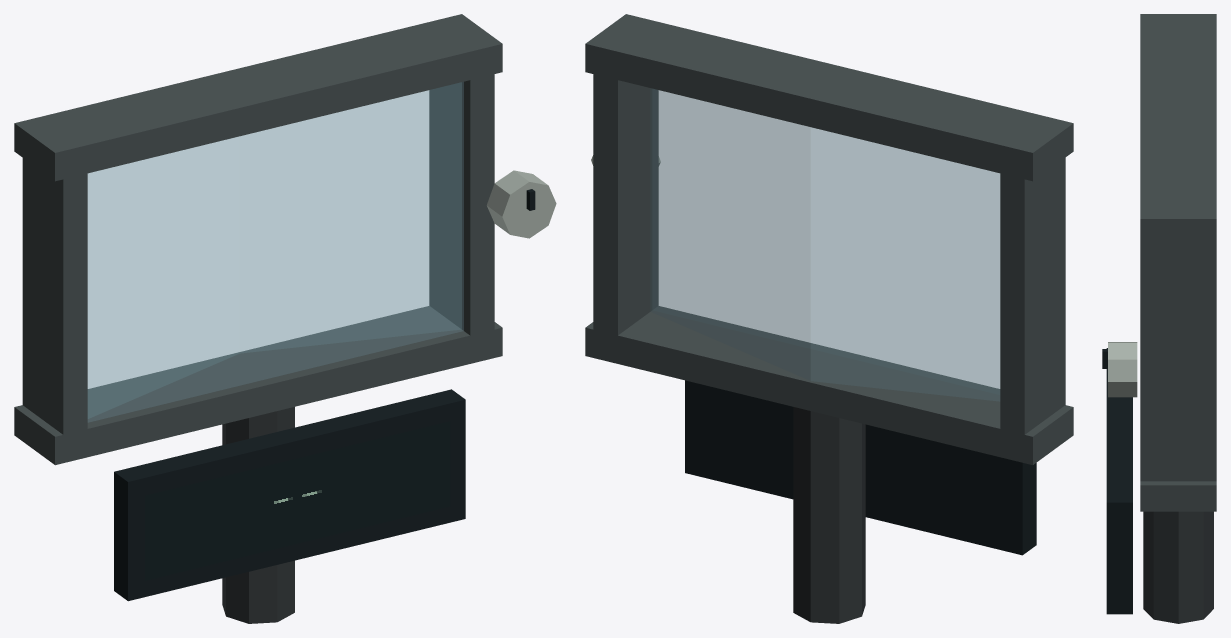
Rendered from blender_spectral_prism_3.glb.
3 renders of one model, left to right at view 1: azimuth 30°, elevation 25°; view 2: azimuth 150°, elevation 25°; view 3: azimuth 270°, elevation 25°, orthographic. The views are drawn at different scales.
Visible parts, largest first — view 1: blender_spectral_prism_3; view 2: blender_spectral_prism_3; view 3: blender_spectral_prism_3.
Boxes of the visible parts, x1,y1,x2,y2 form: blender_spectral_prism_3: [14, 14, 556, 623]; blender_spectral_prism_3: [585, 14, 1073, 623]; blender_spectral_prism_3: [1102, 14, 1216, 623].
Bounding box in the file's own units: 0.1785 × 0.185 × 0.039.
Materials: 2 (2 with a texture image).
